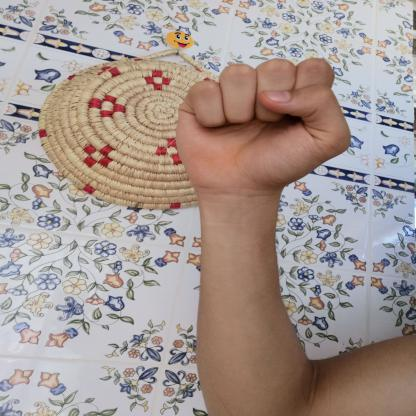SAD: (161, 45, 365, 212)
